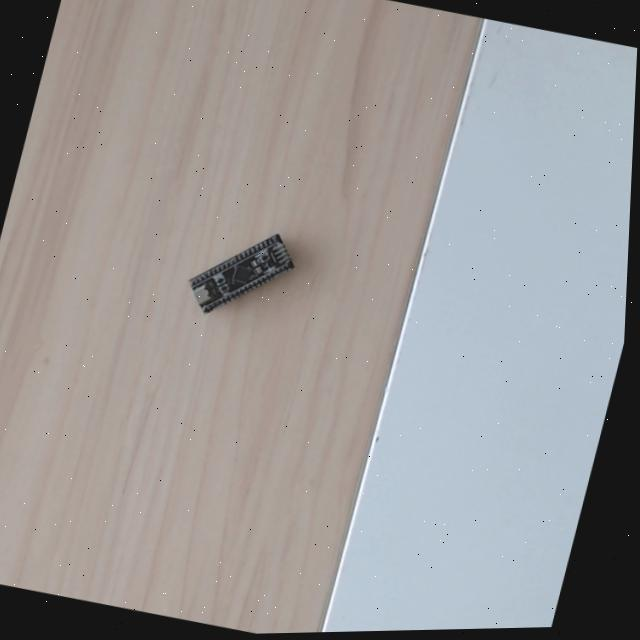STM32-Blackpill: (182, 228, 295, 318)
